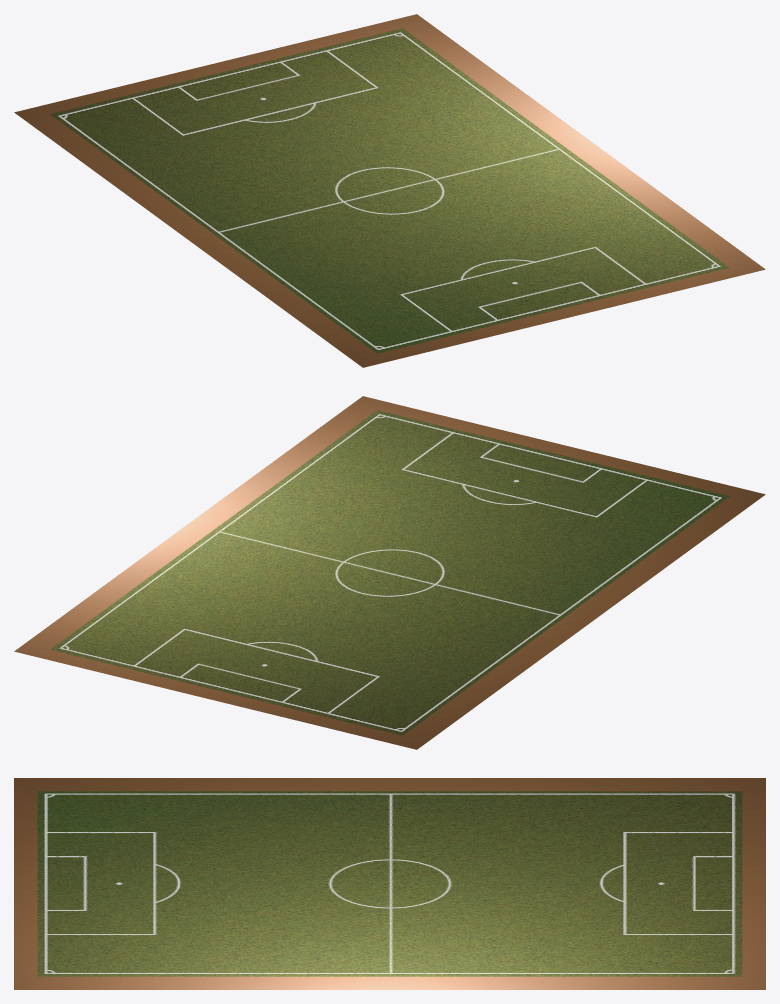
Rendered from footballground_0ld.glb.
3 renders of one model, top to bottom at view 1: azimuth 30°, elevation 25°; view 2: azimuth 150°, elevation 25°; view 3: azimuth 270°, elevation 25°, orthographic. The views are drawn at different scales.
Parts seen in each view (by area): view 1: Plane, Plane.001; view 2: Plane, Plane.001; view 3: Plane, Plane.001.
Part boxes in pixels (bbox=[...]): Plane: bbox=[50, 28, 729, 353]; Plane.001: bbox=[14, 14, 765, 367]; Plane: bbox=[50, 410, 729, 735]; Plane.001: bbox=[14, 396, 765, 749]; Plane: bbox=[37, 791, 742, 976]; Plane.001: bbox=[14, 778, 765, 989].
Size of the model in its own units: 20 by 0 by 30.
Materials: 2 (2 with a texture image).
